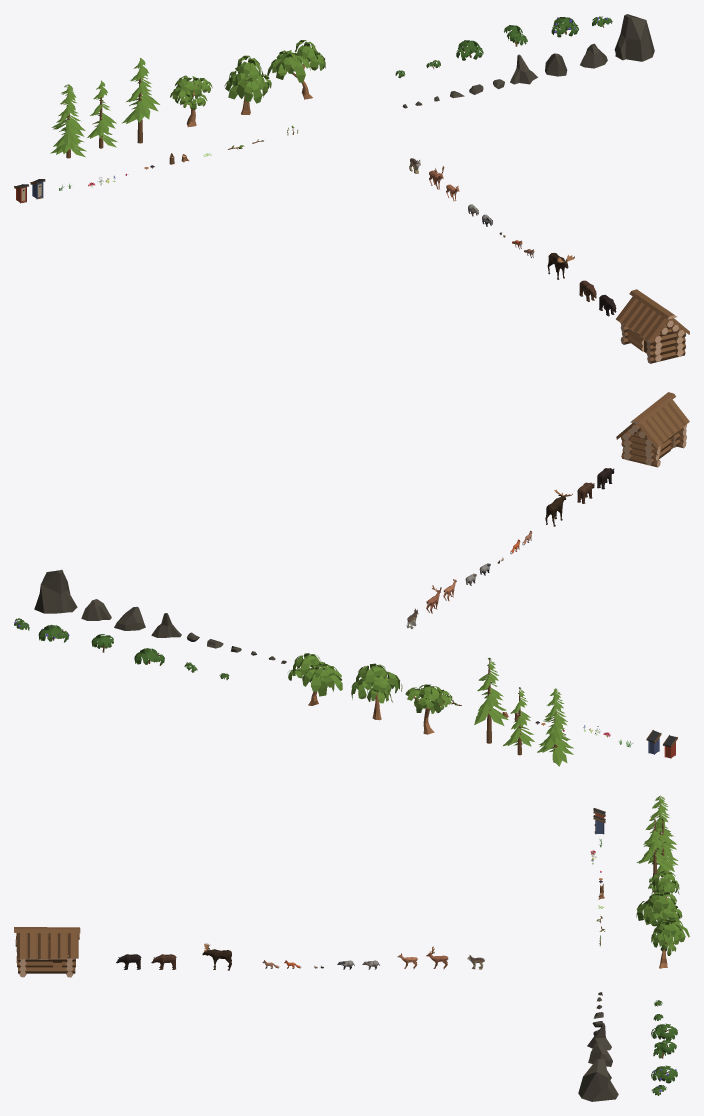
Rendered from Forest_assets.fbx.
The picture shows the model from 3 angles, top to bottom: view 1: azimuth 30°, elevation 25°; view 2: azimuth 150°, elevation 25°; view 3: azimuth 270°, elevation 25°; orthographic projection. The views are drawn at different scales.
Parts seen in each view (by area): view 1: Forest_Cottage_1, Forest_Oak_2_LOD0, Forest_Oak_3_LOD0, Forest_Rock_Large_4, Forest_Pine_2_LOD0, Forest_Pine_3_LOD0, Forest_Oak_1_LOD0, Forest_Pine_1_LOD0; view 2: Forest_Cottage_1, Forest_Oak_3_LOD0, Forest_Oak_2_LOD0, Forest_Rock_Large_4, Forest_Pine_2_LOD0, Forest_Pine_3_LOD0, Forest_Oak_1_LOD0, Forest_Pine_1_LOD0; view 3: Forest_Cottage_1, Forest_Rock_Large_4, Forest_Oak_2_LOD0, Forest_Oak_3_LOD0, Forest_Pine_3_LOD0, Forest_Pine_2_LOD0, Forest_Oak_1_LOD0, Forest_Pine_1_LOD0.
Part boxes in pixels (box(x1,y1,x2,y2)): Forest_Cottage_1: box(616, 289, 689, 363); Forest_Oak_2_LOD0: box(224, 55, 271, 114); Forest_Oak_3_LOD0: box(267, 40, 325, 99); Forest_Rock_Large_4: box(614, 14, 654, 61); Forest_Pine_2_LOD0: box(50, 84, 86, 158); Forest_Pine_3_LOD0: box(122, 58, 159, 143); Forest_Oak_1_LOD0: box(170, 75, 212, 127); Forest_Pine_1_LOD0: box(87, 80, 117, 148); Forest_Cottage_1: box(616, 392, 689, 467); Forest_Oak_3_LOD0: box(288, 653, 342, 705); Forest_Oak_2_LOD0: box(351, 663, 399, 720); Forest_Rock_Large_4: box(34, 569, 77, 613); Forest_Pine_2_LOD0: box(537, 688, 573, 766); Forest_Pine_3_LOD0: box(474, 657, 508, 743); Forest_Oak_1_LOD0: box(405, 684, 452, 734); Forest_Pine_1_LOD0: box(503, 687, 534, 755); Forest_Cottage_1: box(14, 927, 80, 977); Forest_Rock_Large_4: box(578, 1058, 618, 1101); Forest_Oak_2_LOD0: box(636, 891, 682, 926); Forest_Oak_3_LOD0: box(651, 918, 689, 968); Forest_Pine_3_LOD0: box(636, 815, 674, 892); Forest_Pine_2_LOD0: box(643, 795, 676, 863); Forest_Oak_1_LOD0: box(648, 870, 679, 898); Forest_Pine_1_LOD0: box(650, 816, 678, 877).
Size of what is drawn, in the model's own units: 9143 by 1209 by 9405.
